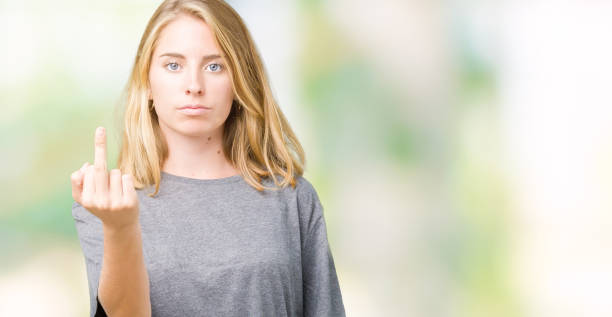insulting_gesture: (69, 123, 140, 236)
